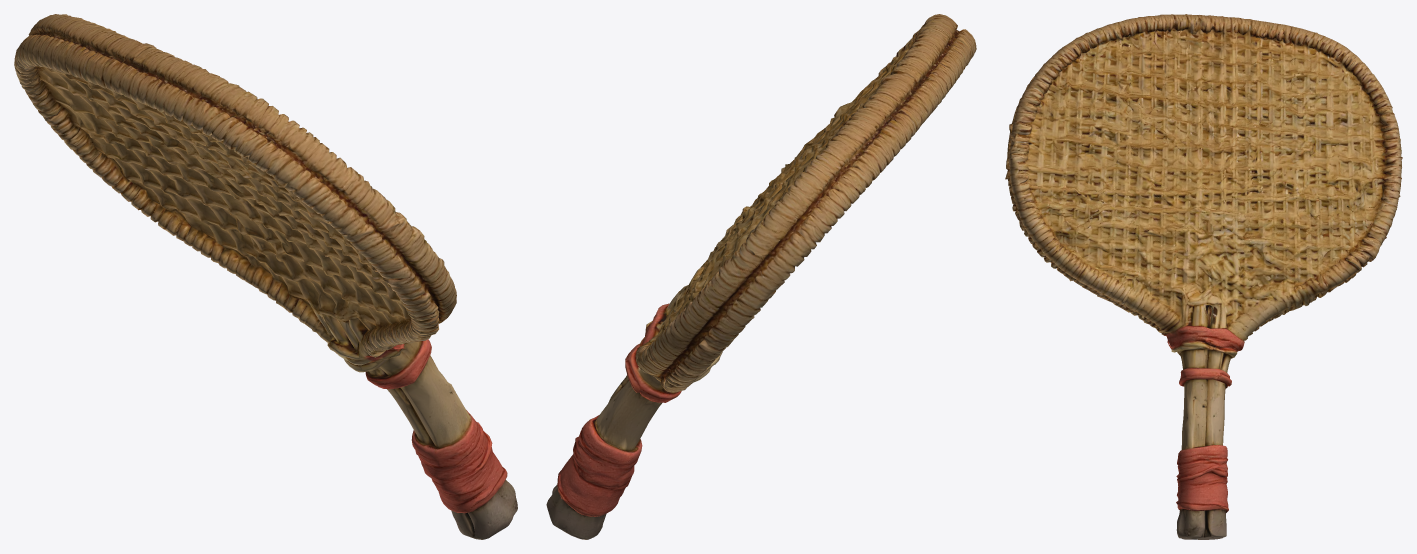
File: beater.glb
The picture shows the model from 3 angles, left to right: view 1: azimuth 30°, elevation 25°; view 2: azimuth 150°, elevation 25°; view 3: azimuth 270°, elevation 25°; orthographic projection. The views are drawn at different scales.
Parts seen in each view (by area): view 1: tripo_node_8c556d6a-9dd5-4799-86d9-9eb3070a336c; view 2: tripo_node_8c556d6a-9dd5-4799-86d9-9eb3070a336c; view 3: tripo_node_8c556d6a-9dd5-4799-86d9-9eb3070a336c.
Boxes of the visible parts, x1=… form: tripo_node_8c556d6a-9dd5-4799-86d9-9eb3070a336c: x1=14, y1=14, x2=517, y2=539; tripo_node_8c556d6a-9dd5-4799-86d9-9eb3070a336c: x1=546, y1=14, x2=976, y2=539; tripo_node_8c556d6a-9dd5-4799-86d9-9eb3070a336c: x1=1005, y1=14, x2=1402, y2=539.
Bounding box in the file's own units: 0.7485 × 1 × 0.8734.
1 material, 1 textured.
